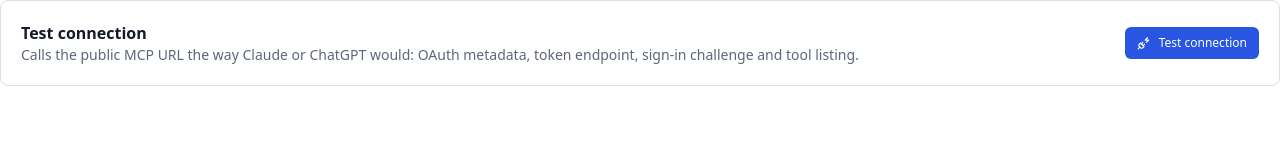
Test connection › lists each outside-in check with its result
Click the button "Test connection" at (1192, 43), box [1125,27,1259,59]
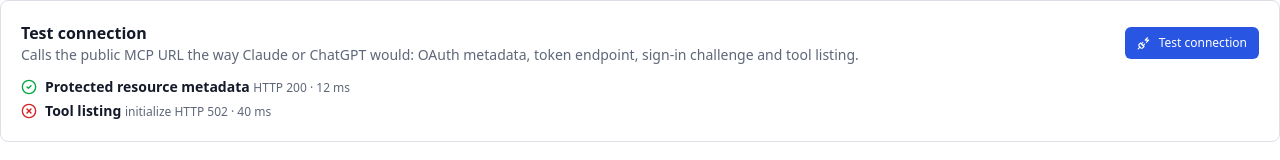
Now the text "Protected resource metadata" is shown, box [45,77,250,96]
Now the text "initialize HTTP 502 · 40 ms" is shown, box [125,103,271,120]
Now the icon named "passed" is shown, box [21,79,37,95]
